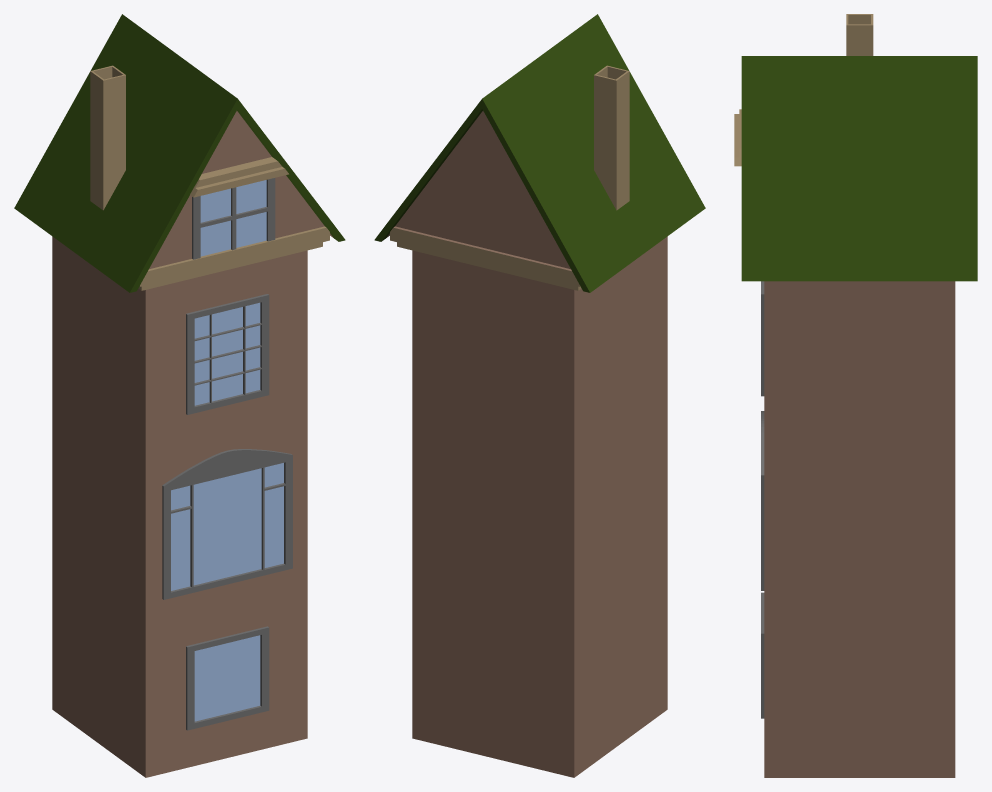
File: House1Lvl1.fbx
3 renders of one model, left to right at view 1: azimuth 30°, elevation 25°; view 2: azimuth 150°, elevation 25°; view 3: azimuth 270°, elevation 25°, orthographic. The views are drawn at different scales.
Visible parts, largest first — view 1: House1Lvl1; view 2: House1Lvl1; view 3: House1Lvl1.
Boxes of the visible parts, box(x1,y1,x2,y2) form: House1Lvl1: box(14, 14, 345, 777); House1Lvl1: box(374, 14, 705, 777); House1Lvl1: box(734, 14, 977, 777).
Bounding box in the file's own units: 59.34 × 175 × 56.77.
